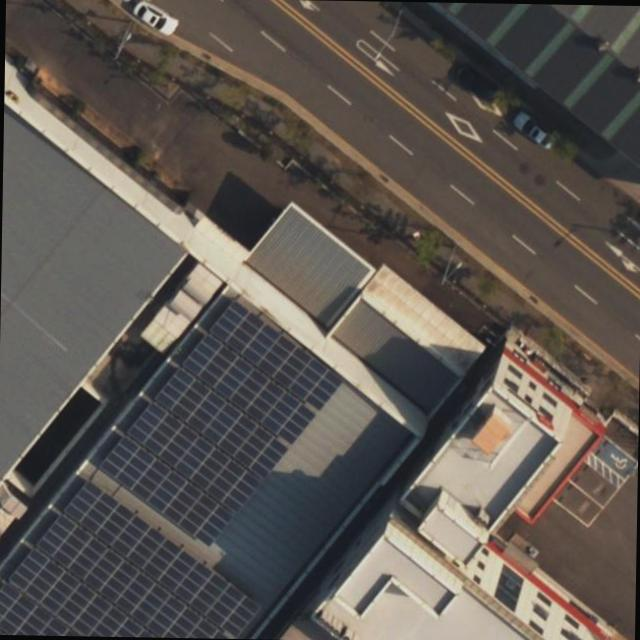solar: (58, 480, 268, 638), (29, 512, 238, 639), (120, 401, 264, 518), (149, 362, 292, 478), (178, 330, 320, 446), (95, 434, 236, 548), (208, 297, 344, 413), (5, 546, 162, 638), (0, 582, 83, 636)
